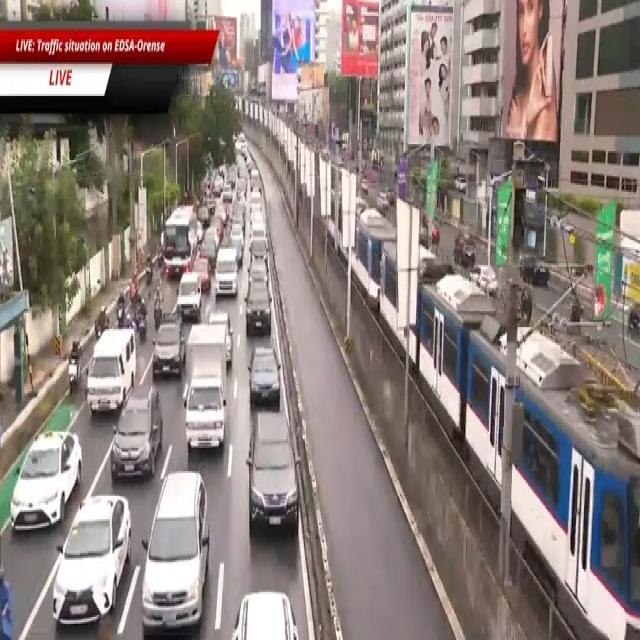car: (142, 474, 216, 640), (55, 496, 133, 640), (9, 430, 85, 544), (252, 405, 298, 535), (112, 384, 165, 489), (88, 330, 142, 412), (249, 345, 282, 403), (155, 315, 182, 384), (244, 279, 275, 334), (177, 274, 206, 317), (218, 244, 240, 299), (248, 237, 270, 272), (192, 255, 211, 291)
motorbike: (62, 338, 89, 394), (117, 286, 130, 332), (93, 308, 111, 338), (153, 279, 162, 334), (138, 298, 148, 342)
truck: (180, 317, 232, 461)
